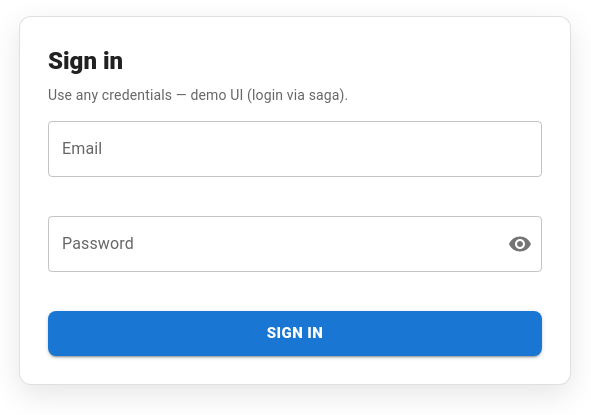
Scenario: LoginPage › should show "Password is required" after password blur
Click the password field named "password": (270, 244) [48,216,492,272]
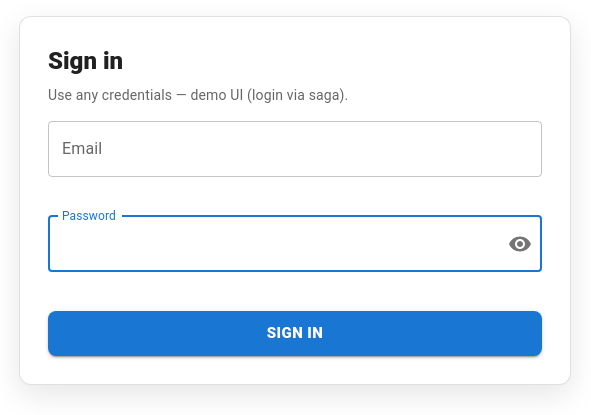
Press Tab
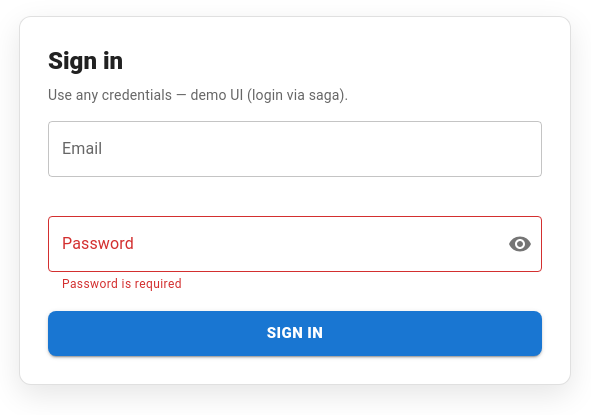
expect the text "Password is required" is shown: met, box [62,277,182,291]
